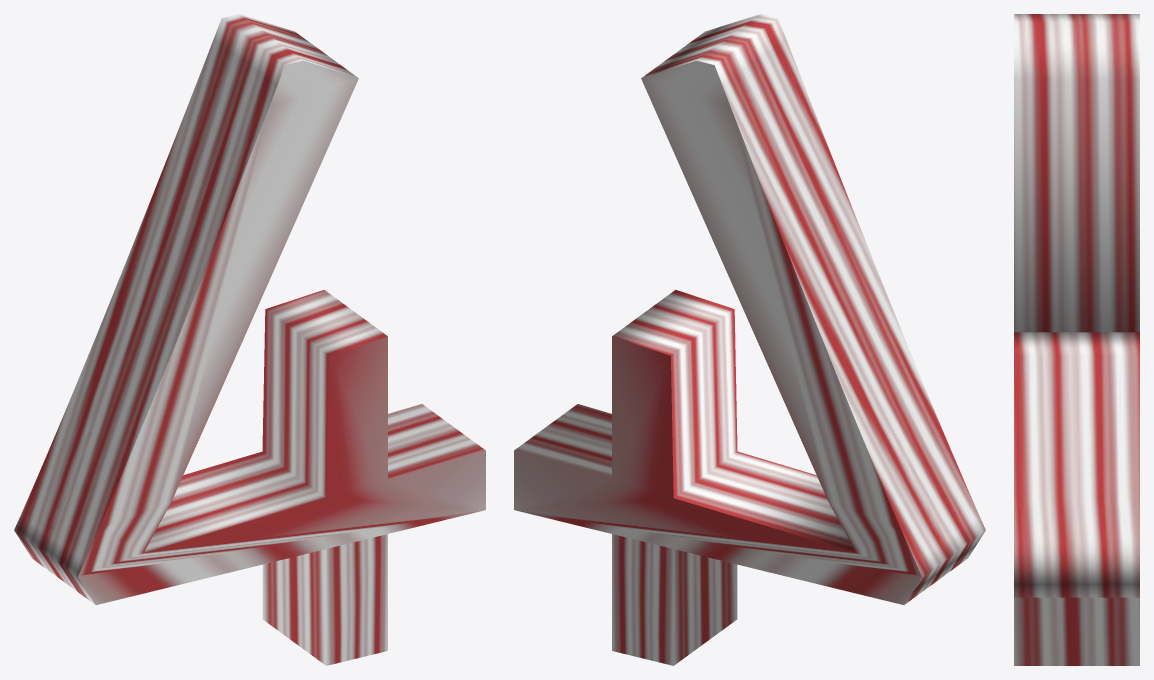
The picture shows the model from 3 angles, left to right: view 1: azimuth 30°, elevation 25°; view 2: azimuth 150°, elevation 25°; view 3: azimuth 270°, elevation 25°; orthographic projection.
Parts seen in each view (by area): view 1: Text.010; view 2: Text.010; view 3: Text.010.
Part boxes in pixels (left/top/right/bottom): Text.010: left=14, top=14, right=485, bottom=665; Text.010: left=514, top=14, right=985, bottom=665; Text.010: left=1014, top=14, right=1139, bottom=665.
Size of the model in its own units: 0.4431 by 0.6338 by 0.12.
Materials: 1 (1 with a texture image).
